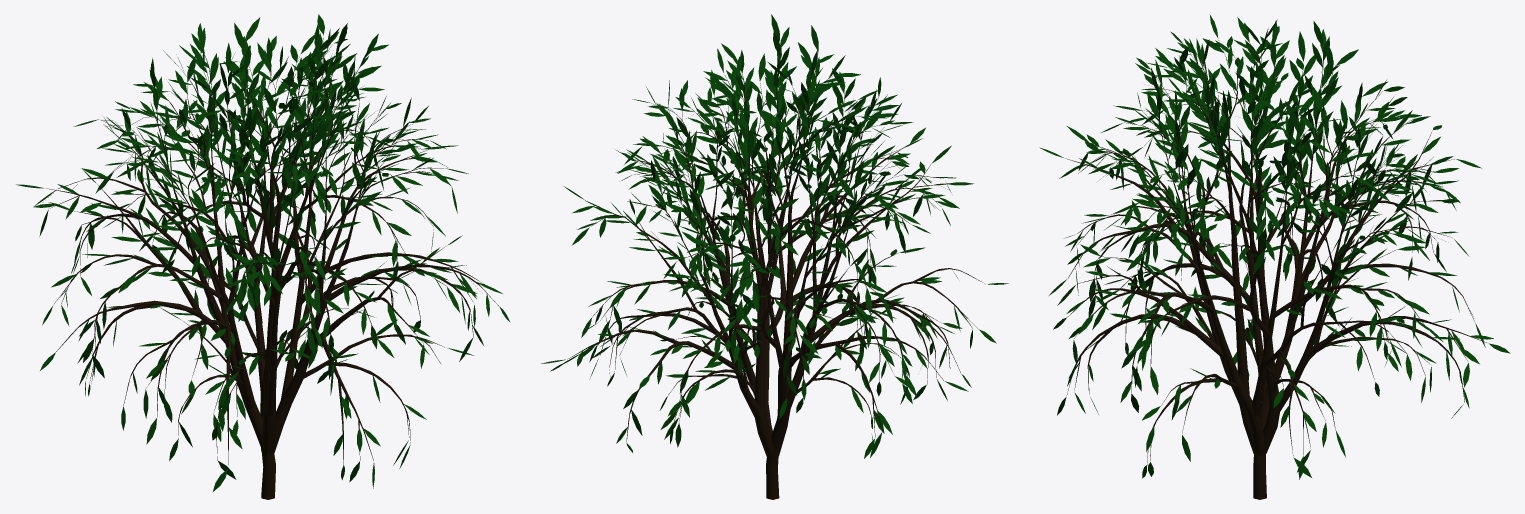
Rendered from Kust.fbx.
3 views of the same model, side by side, from view 1: azimuth 30°, elevation 25°; view 2: azimuth 150°, elevation 25°; view 3: azimuth 270°, elevation 25° (orthographic). The views are drawn at different scales.
Visible parts, largest first — view 1: leaves_LOD0; view 2: leaves_LOD0; view 3: leaves_LOD0.
Boxes of the visible parts, left/top/right/bottom form: leaves_LOD0: left=16, top=14, right=509, bottom=499; leaves_LOD0: left=541, top=14, right=1008, bottom=499; leaves_LOD0: left=1039, top=14, right=1510, bottom=499.
Size of what is drawn, in the model's own units: 584 by 682 by 610.
